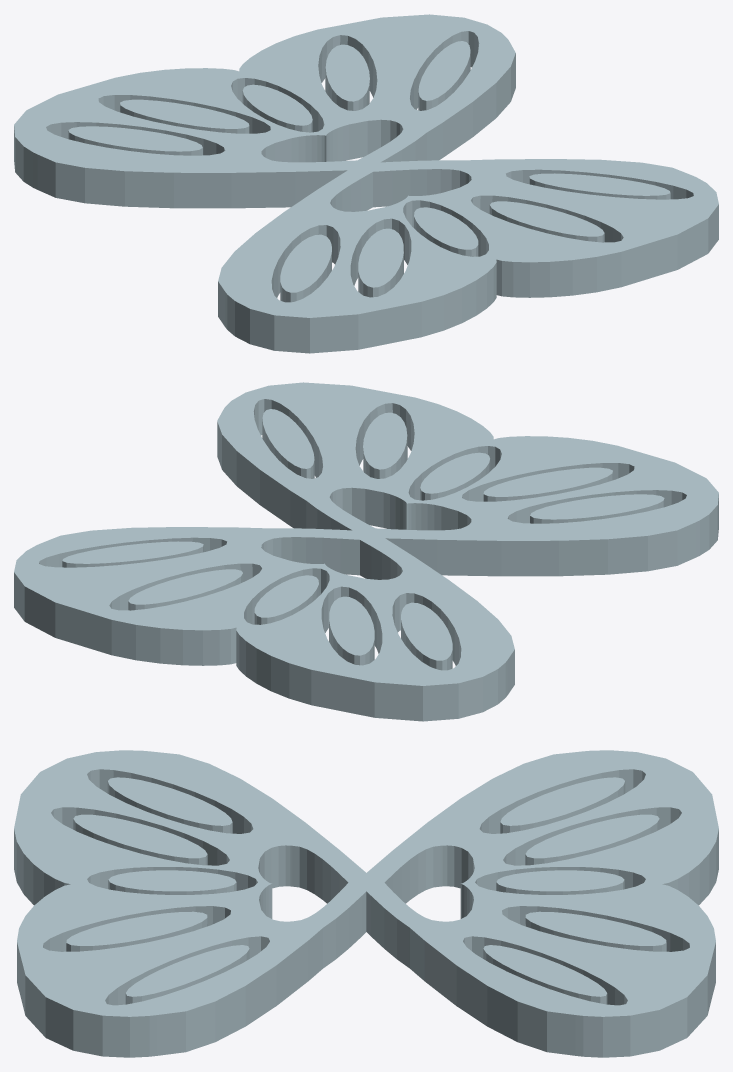
Rendered from asset.glb.
3 renders of one model, top to bottom at view 1: azimuth 30°, elevation 25°; view 2: azimuth 150°, elevation 25°; view 3: azimuth 270°, elevation 25°, orthographic. The views are drawn at different scales.
Parts seen in each view (by area): view 1: Mesh_Mesh_head_geo.001_lambert2SG.001; view 2: Mesh_Mesh_head_geo.001_lambert2SG.001; view 3: Mesh_Mesh_head_geo.001_lambert2SG.001.
Part boxes in pixels (x1=…): Mesh_Mesh_head_geo.001_lambert2SG.001: x1=14, y1=14, x2=718, y2=353; Mesh_Mesh_head_geo.001_lambert2SG.001: x1=14, y1=382, x2=718, y2=721; Mesh_Mesh_head_geo.001_lambert2SG.001: x1=14, y1=750, x2=718, y2=1057.
Bounding box in the file's own units: 70 × 5 × 78.2.
